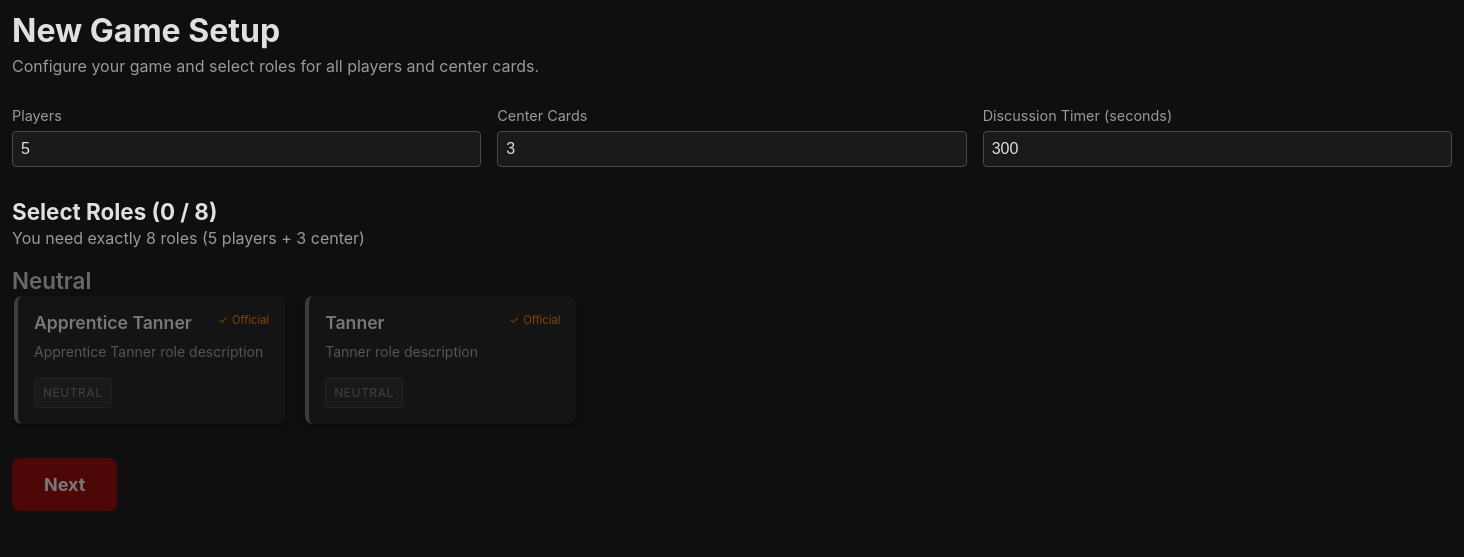
Test: GameSetupPage › dependency auto-selection › selecting role with REQUIRES dependency auto-selects the required role
Click the text "Apprentice Tanner" at x=150, y=360, box [12, 294, 287, 426]
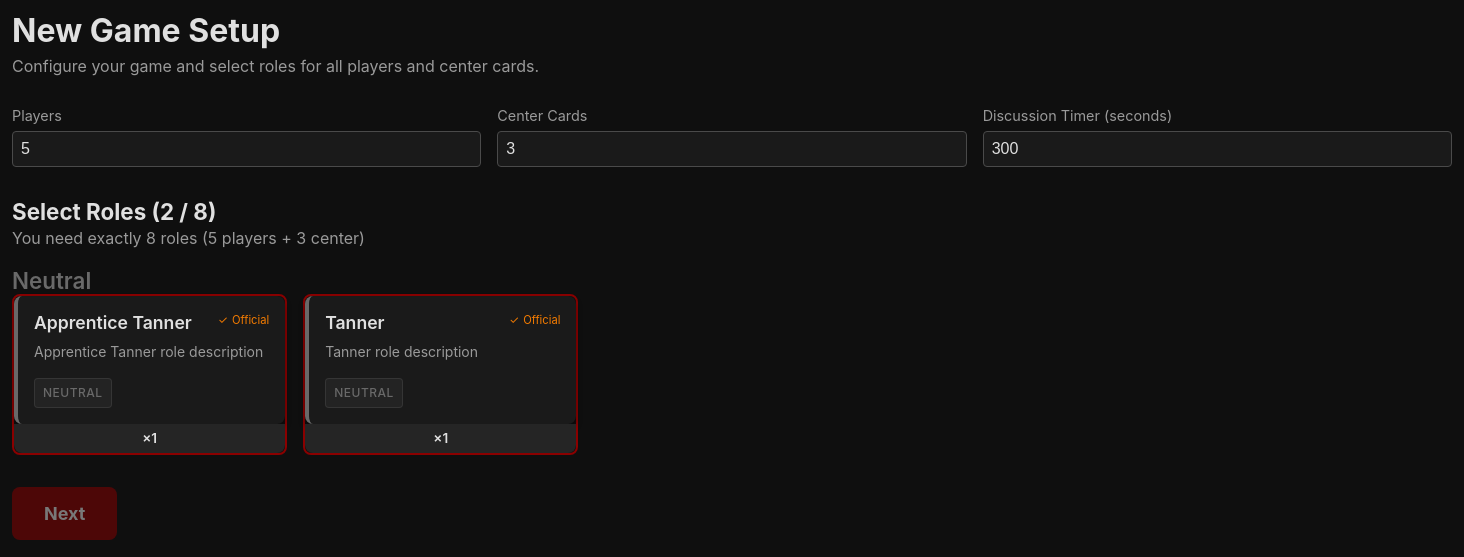
Expected: the heading "Select Roles (2 / 8)" is shown, [12, 198, 216, 225]
